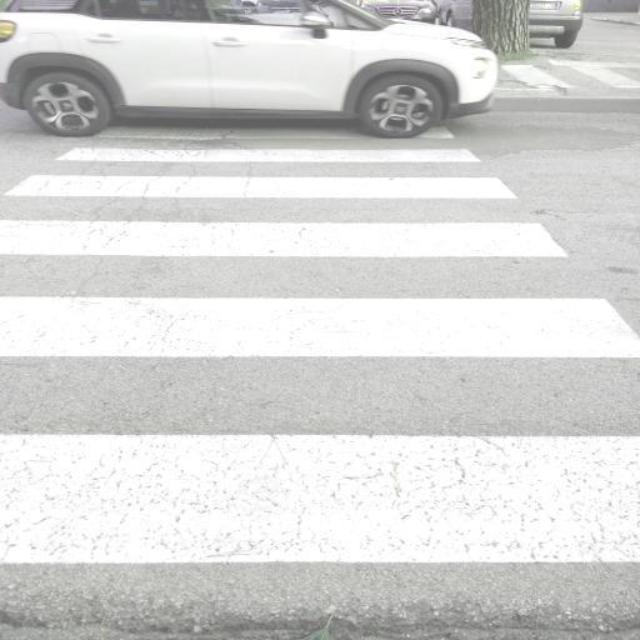sidewalk: (0, 97, 640, 640)
